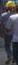boots: (11, 60, 18, 65), (13, 60, 18, 65)
hard-hat: (5, 0, 16, 7)
